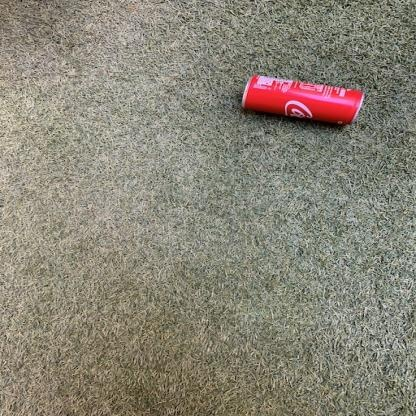trash: (242, 75, 363, 124)
